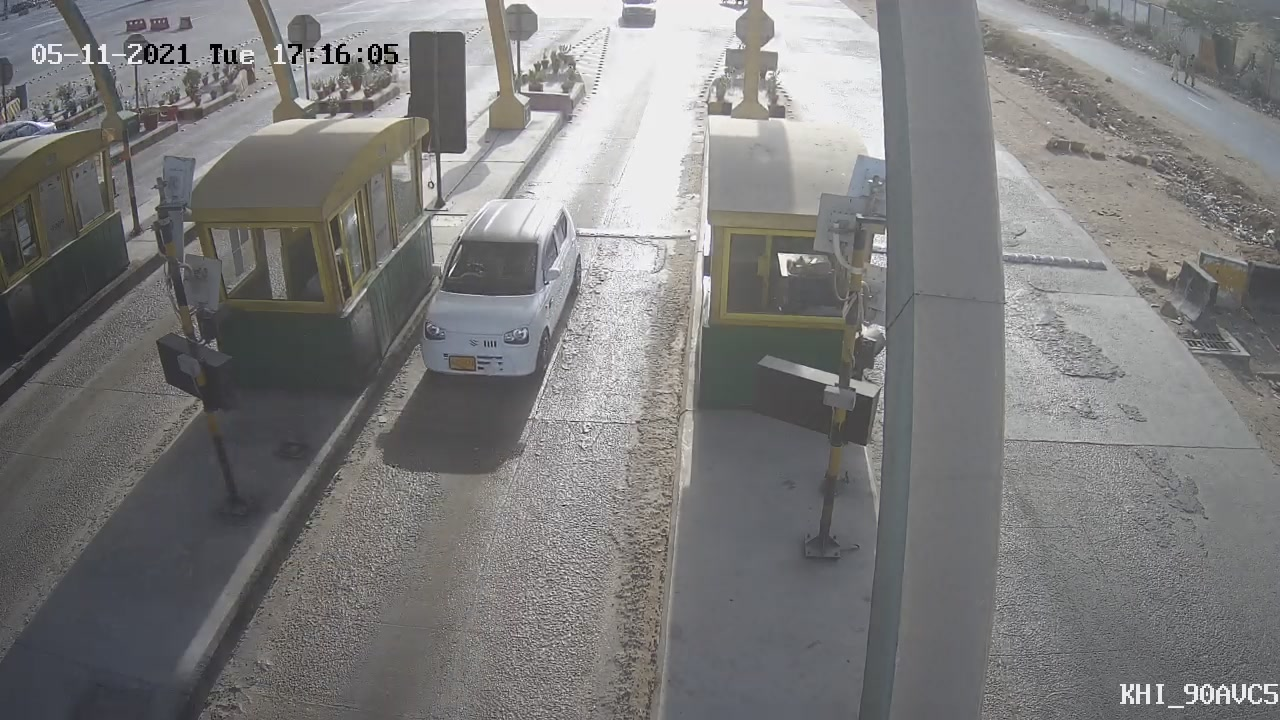F1: (390, 178, 596, 403)
